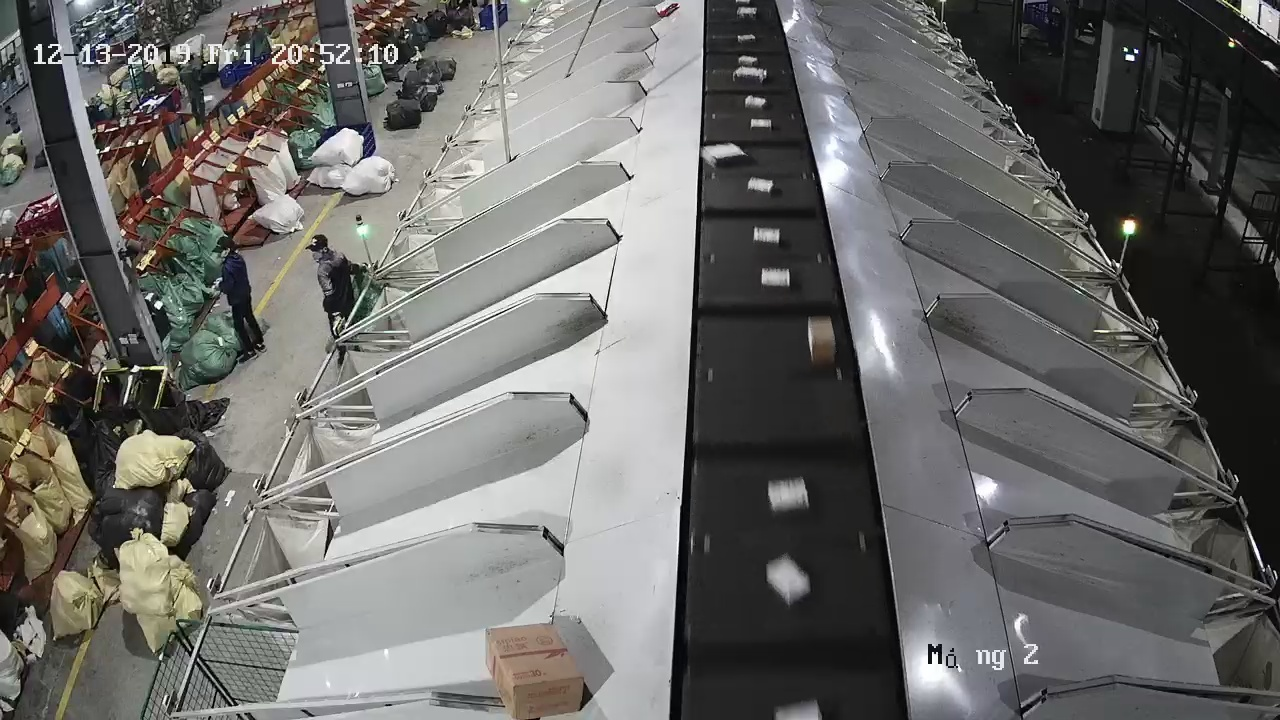parcel: (699, 140, 750, 169)
